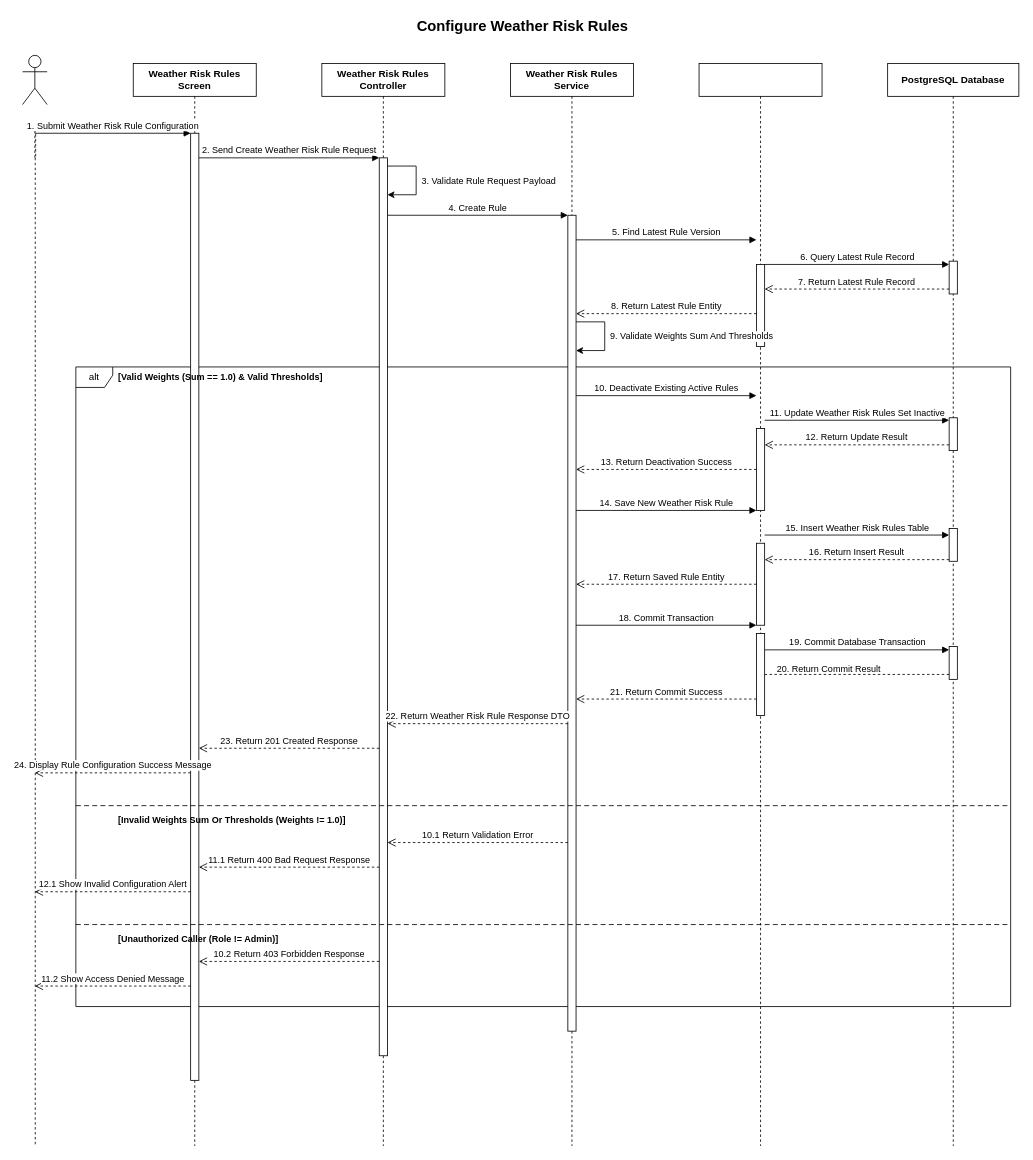
The diagram is 1033 pixels wide and 1160 high, and some of its shapes have lost their labels. Each missing label, with the centre of its shape:
"Admin" goes at point 34,80.
"Weather Risk Rules Model" goes at point 760,604.
